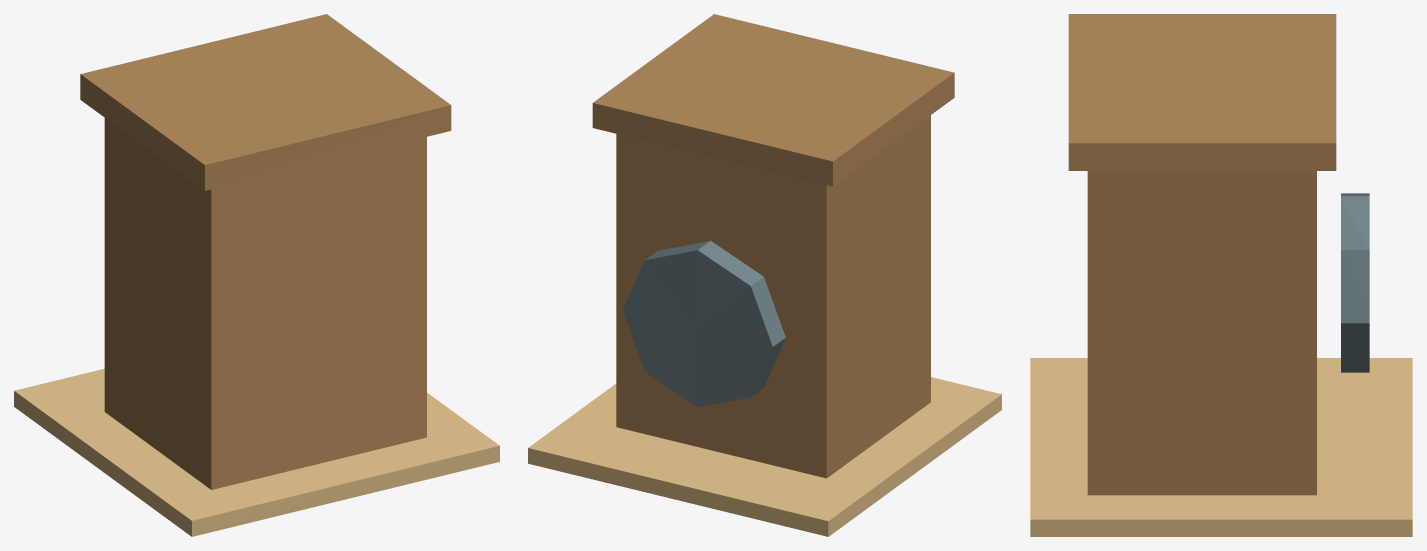
The model's file is Evaporative-cooler.glb.
The picture shows the model from 3 angles, left to right: view 1: azimuth 30°, elevation 25°; view 2: azimuth 150°, elevation 25°; view 3: azimuth 270°, elevation 25°; orthographic projection. The views are drawn at different scales.
Parts seen in each view (by area): view 1: evaporative-cooler-static-evaporative-cooler-wall, evaporative-cooler-static-evaporative-cooler-teal, evaporative-cooler-static-evaporative-cooler-earth; view 2: evaporative-cooler-static-evaporative-cooler-wall, evaporative-cooler-static-evaporative-cooler-teal, evaporative-cooler-static-evaporative-cooler-earth, evaporative-cooler-static-evaporative-cooler-metal; view 3: evaporative-cooler-static-evaporative-cooler-wall, evaporative-cooler-static-evaporative-cooler-teal, evaporative-cooler-static-evaporative-cooler-earth, evaporative-cooler-static-evaporative-cooler-metal.
Boxes of the visible parts, <box> form: evaporative-cooler-static-evaporative-cooler-wall: <box>104,118,426,489</box>; evaporative-cooler-static-evaporative-cooler-teal: <box>80,14,451,190</box>; evaporative-cooler-static-evaporative-cooler-earth: <box>14,368,499,536</box>; evaporative-cooler-static-evaporative-cooler-wall: <box>616,115,930,478</box>; evaporative-cooler-static-evaporative-cooler-teal: <box>592,14,954,186</box>; evaporative-cooler-static-evaporative-cooler-earth: <box>528,377,1001,536</box>; evaporative-cooler-static-evaporative-cooler-metal: <box>622,240,785,407</box>; evaporative-cooler-static-evaporative-cooler-wall: <box>1087,171,1316,495</box>; evaporative-cooler-static-evaporative-cooler-teal: <box>1068,14,1336,170</box>; evaporative-cooler-static-evaporative-cooler-earth: <box>1030,358,1412,536</box>; evaporative-cooler-static-evaporative-cooler-metal: <box>1341,193,1369,372</box>.
Bounding box in the file's own units: 2 × 2.18 × 2.
